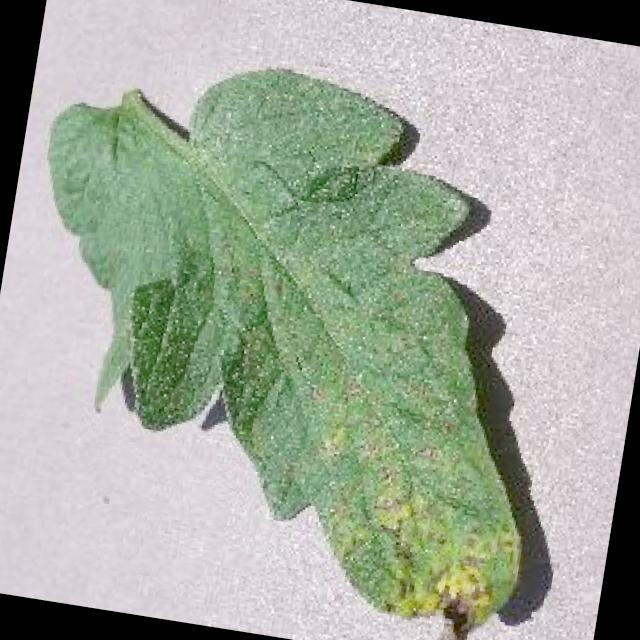Tomato Septoria spot leaf: (0, 29, 589, 640)
